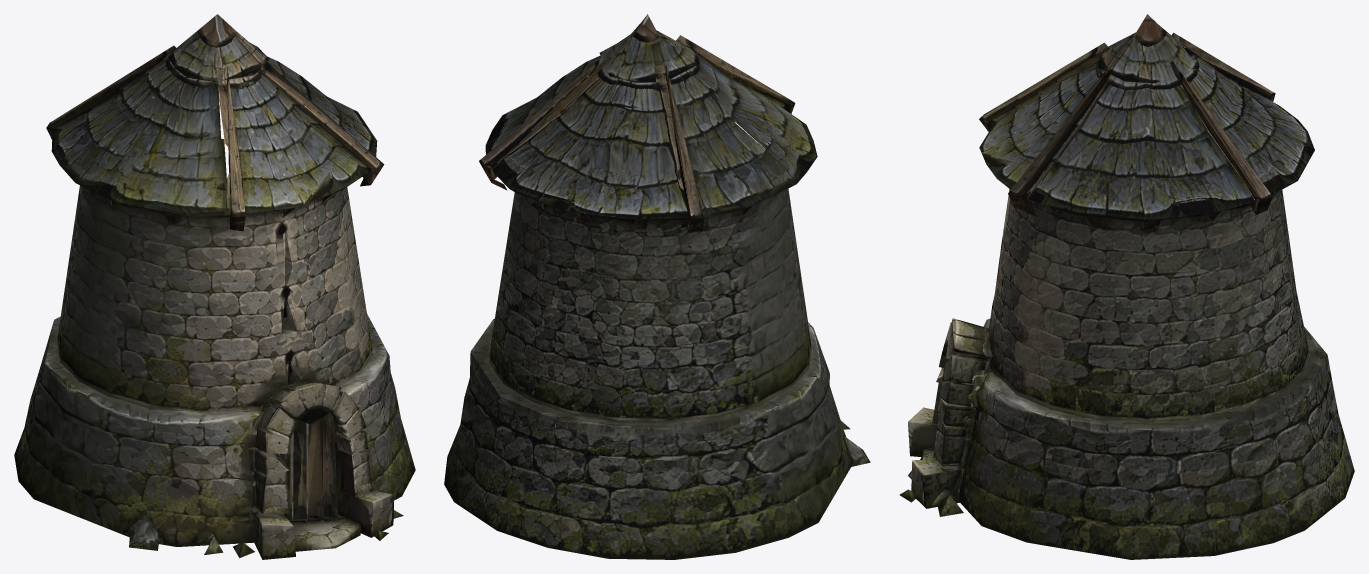
The model's file is act1_kit_v1_ossuary_tower.glb.
The picture shows the model from 3 angles, left to right: view 1: azimuth 30°, elevation 25°; view 2: azimuth 150°, elevation 25°; view 3: azimuth 270°, elevation 25°; orthographic projection. The views are drawn at different scales.
Visible parts, largest first — view 1: A02_4_ossuary_tower; view 2: A02_4_ossuary_tower; view 3: A02_4_ossuary_tower.
Part boxes in pixels (left/top/right/bottom): A02_4_ossuary_tower: left=14, top=14, right=415, bottom=559; A02_4_ossuary_tower: left=444, top=14, right=870, bottom=559; A02_4_ossuary_tower: left=899, top=14, right=1354, bottom=559.
Size of the model in its own units: 0.8077 by 1 by 0.8963.
1 material, 1 textured.
